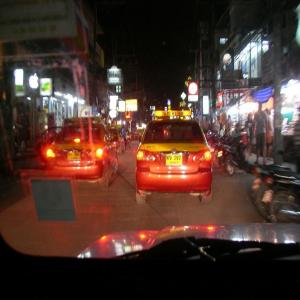Vehicle-registration-plate: (167, 155, 183, 166)
